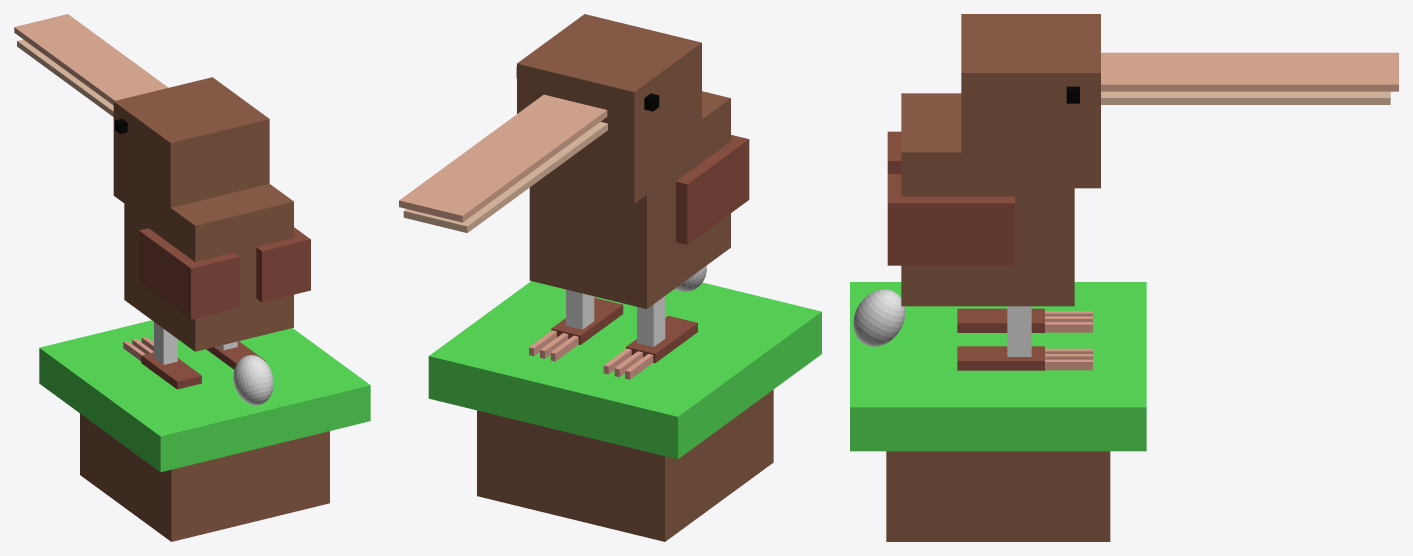
File: kiwi.glb
The picture shows the model from 3 angles, left to right: view 1: azimuth 30°, elevation 25°; view 2: azimuth 150°, elevation 25°; view 3: azimuth 270°, elevation 25°; orthographic projection. The views are drawn at different scales.
Parts seen in each view (by area): view 1: Cube.018, Cube, Cube.019, Cube.003, Cube.001, Cube.006, Cube.007, Sphere, Cube.002, Cube.014, Cube.013, Cube.009; view 2: Cube.018, Cube.019, Cube, Cube.003, Cube.001, Cube.006, Cube.002, Cube.014, Cube.009, Cube.013, Cube.008; view 3: Cube.018, Cube, Cube.019, Cube.003, Cube.001, Cube.007, Cube.002, Sphere, Cube.009, Cube.014, Cube.008, Cube.006.
Boxes of the visible parts, x1,y1,x2,y2 form: Cube.018: (39,320,370,472); Cube: (113,77,269,236); Cube.019: (80,413,329,541); Cube.003: (124,176,293,351); Cube.001: (14,14,168,104); Cube.006: (139,228,239,319); Cube.007: (256,227,310,302); Sphere: (233,355,273,405); Cube.002: (17,39,113,116); Cube.014: (141,352,201,389); Cube.013: (154,322,177,364); Cube.009: (206,341,264,369); Cube.018: (428,281,821,459); Cube.019: (477,389,773,541); Cube: (517,14,701,203); Cube.003: (529,91,730,308); Cube.001: (399,94,607,222); Cube.006: (676,135,749,244); Cube.002: (403,122,607,232); Cube.014: (626,315,697,363); Cube.009: (551,297,623,344); Cube.013: (637,296,665,346); Cube.008: (566,289,594,329); Cube.018: (850,282,1146,451); Cube: (961,14,1100,188); Cube.019: (886,451,1110,541); Cube.003: (901,93,1074,306); Cube.001: (1101,52,1398,91); Cube.007: (887,174,1014,265); Cube.002: (1101,91,1390,104); Sphere: (853,289,905,346); Cube.009: (957,346,1044,370); Cube.014: (957,308,1044,332); Cube.008: (1007,306,1031,356); Cube.006: (887,131,901,173).
Size of the model in its own units: 4.25 by 7.13 by 7.86.
